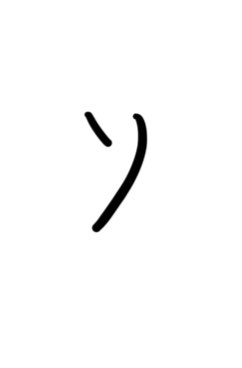so: (67, 105, 155, 238)
